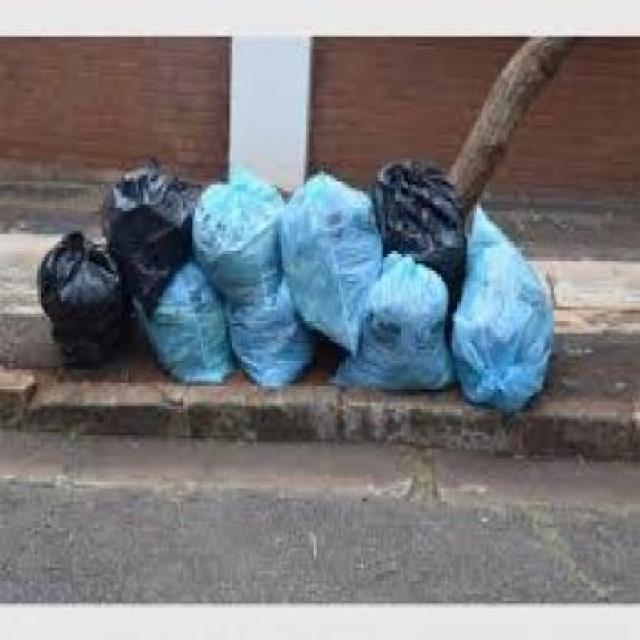garbage: (5, 133, 596, 433)
